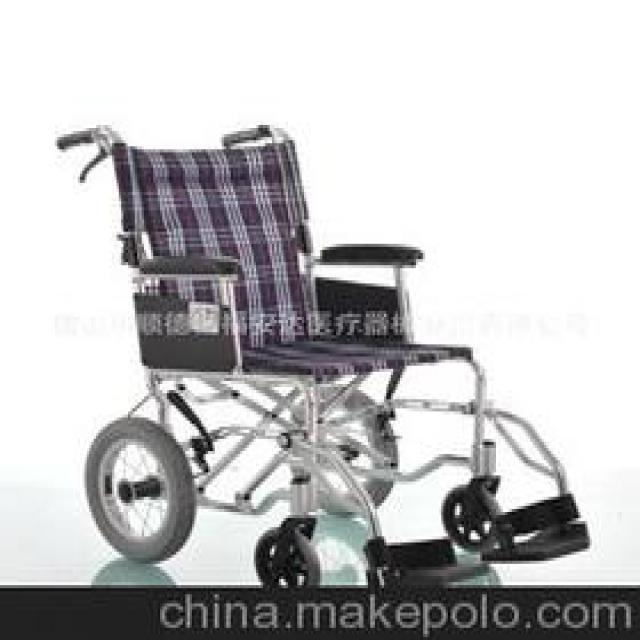wheelchairs: (59, 123, 591, 584)
